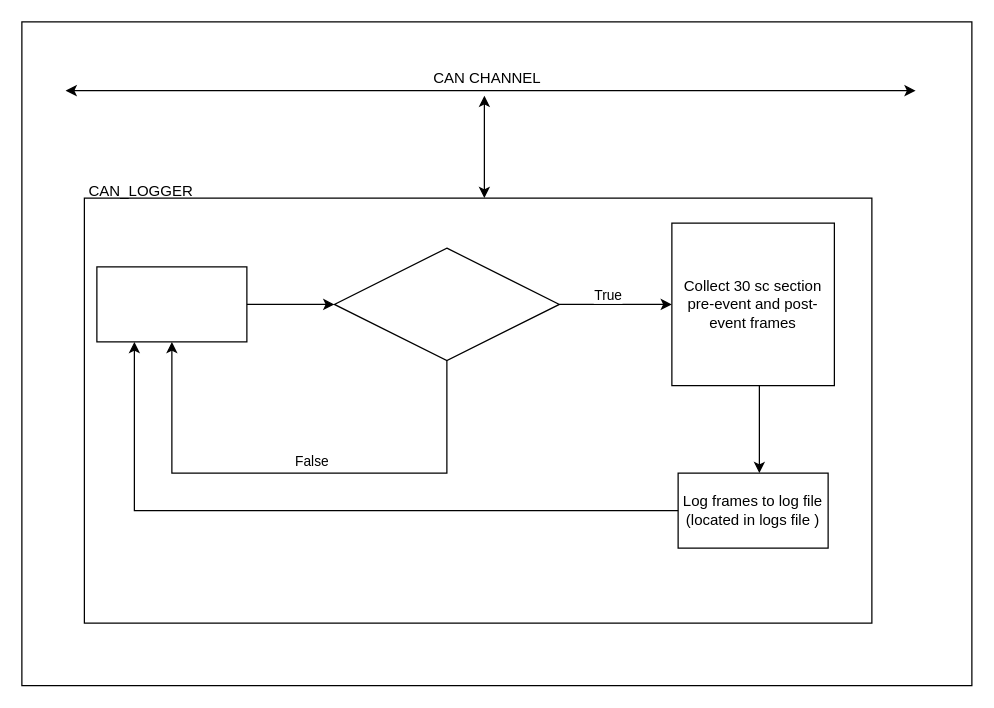
Image size: 994x708. Some labels were removed from this diagram. The centre of each missing label's shape, as x and y in pixels:
"If selected event frame occur" goes at point (446, 304).
"read frames from spesific can channel" goes at point (171, 304).
